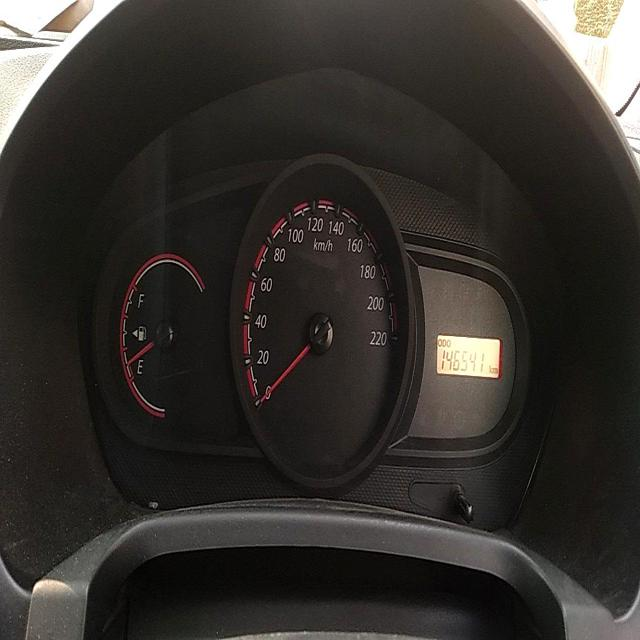odometer: (439, 348, 489, 376)
